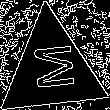M_W: (26, 43, 77, 95)
